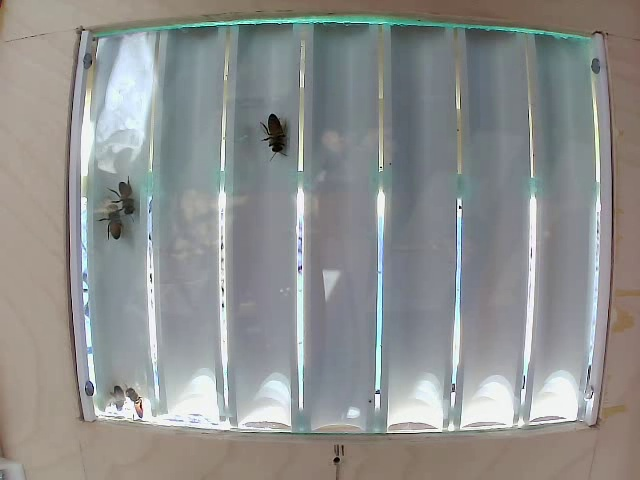bee: (100, 204, 137, 248), (264, 102, 294, 149), (107, 182, 141, 223)
